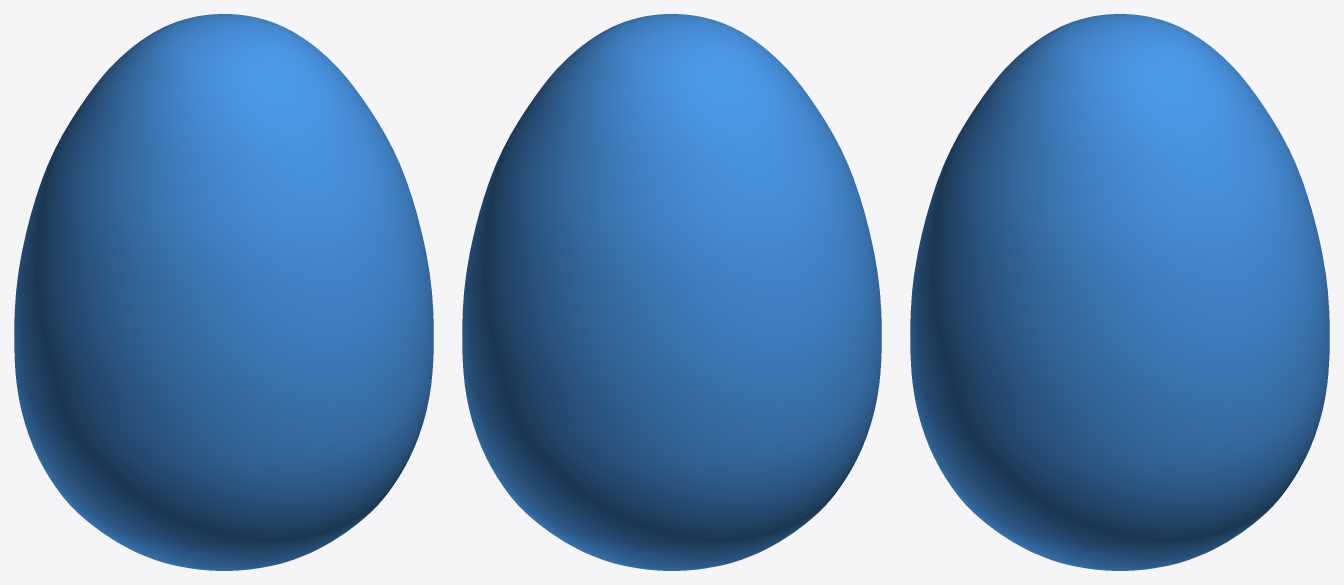
Rendered from Egg_blue.fbx.
3 renders of one model, left to right at view 1: azimuth 30°, elevation 25°; view 2: azimuth 150°, elevation 25°; view 3: azimuth 270°, elevation 25°, orthographic.
Parts seen in each view (by area): view 1: Egg_blue; view 2: Egg_blue; view 3: Egg_blue.
Boxes of the visible parts, left/top/right/bottom form: Egg_blue: left=14, top=14, right=433, bottom=570; Egg_blue: left=462, top=14, right=881, bottom=570; Egg_blue: left=910, top=14, right=1329, bottom=570.
Size of the model in its own units: 166 by 226 by 166.
1 material, 1 textured.
